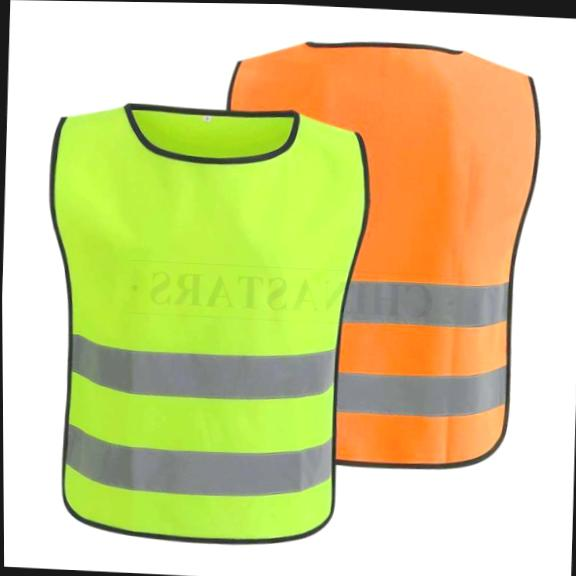safety_vest: (36, 91, 373, 551), (213, 35, 544, 479)
